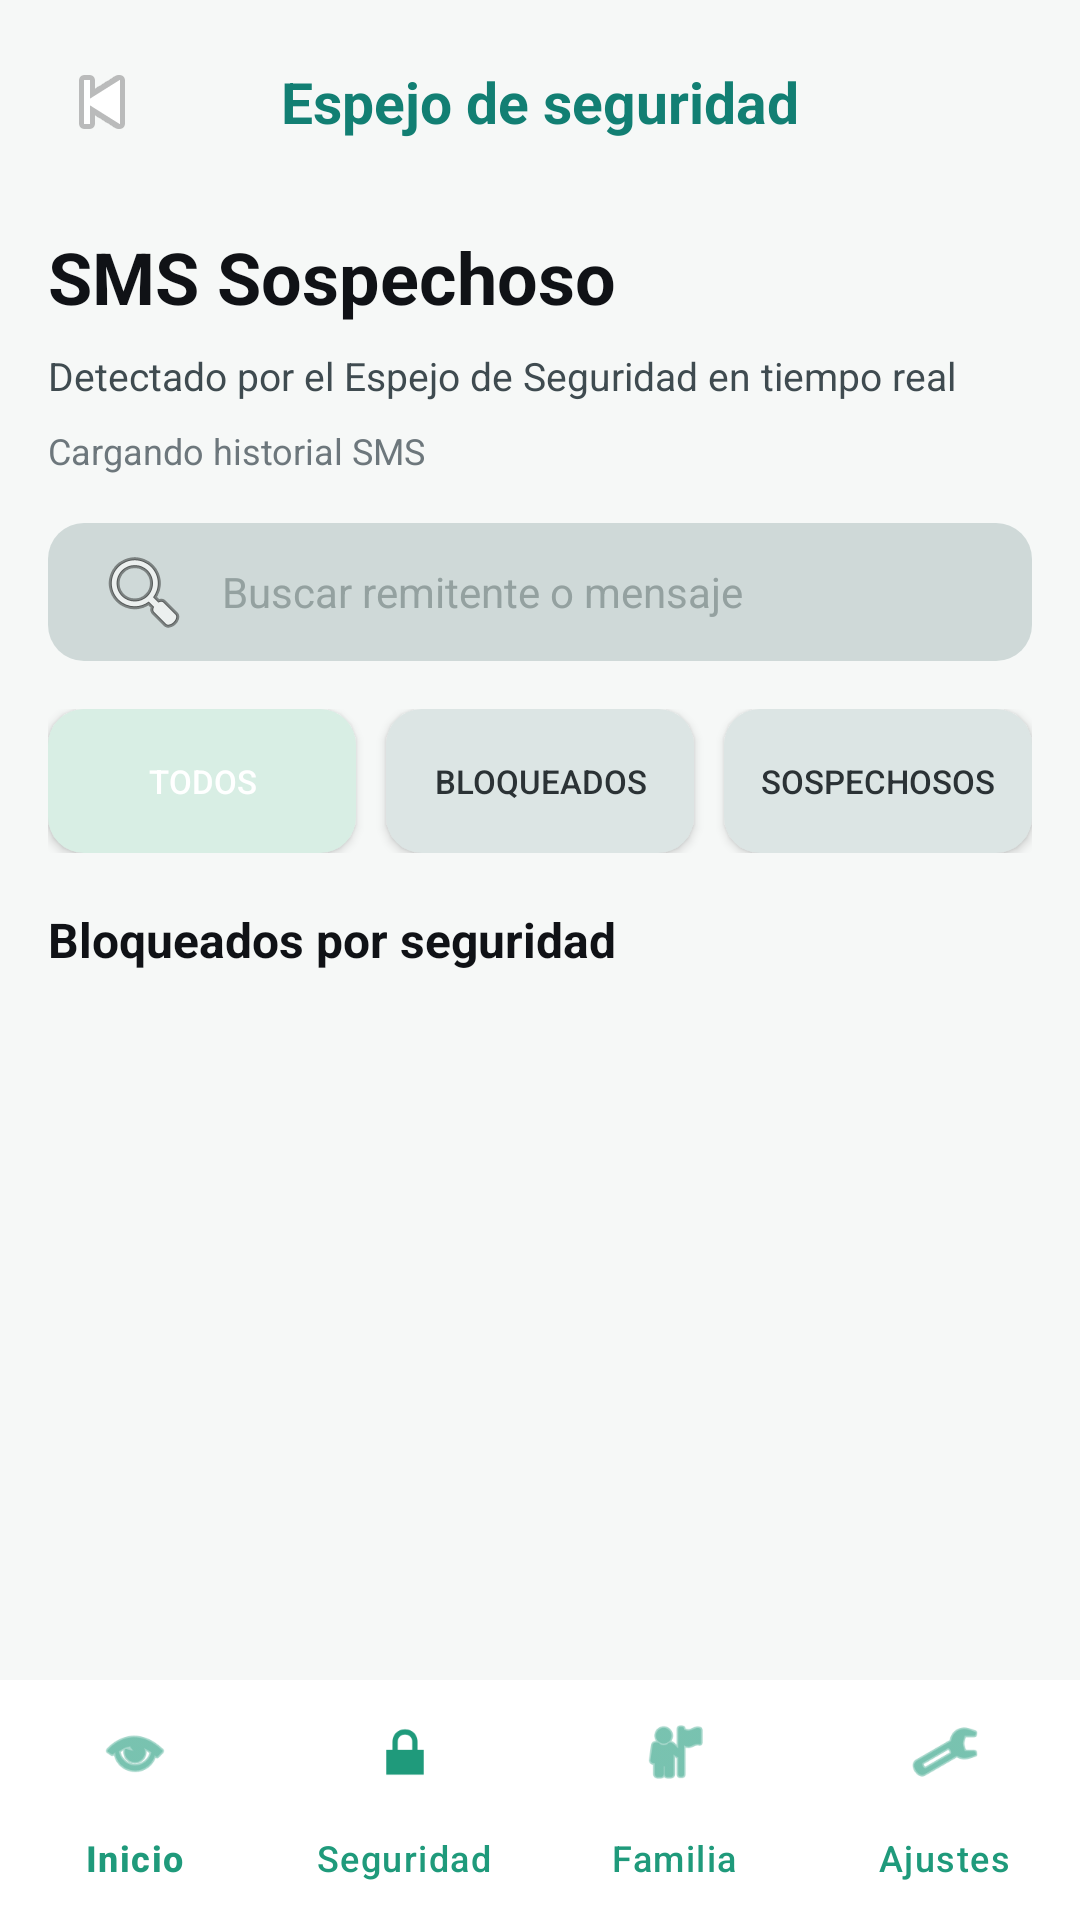

Where to tap for icons on this 1080px×1920px app screen, as (x=x, y=y):
Volver: (x=102, y=102)
